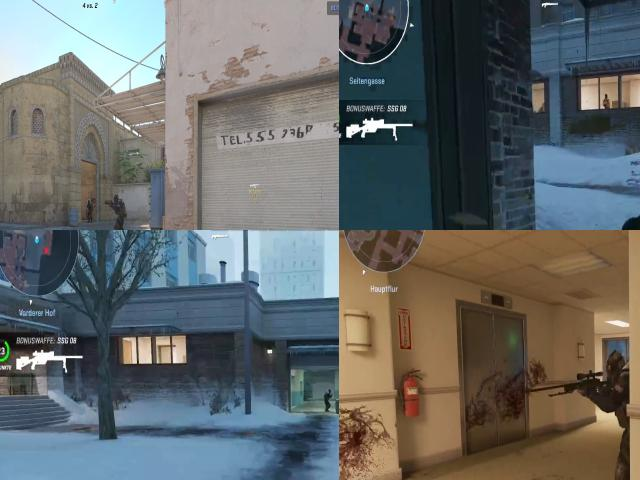CT: (598, 347, 628, 480), (112, 193, 125, 230), (323, 386, 333, 408), (87, 199, 93, 223)
CT-Head: (603, 345, 633, 388), (325, 386, 331, 396), (114, 194, 118, 202), (88, 200, 91, 204)
T: (601, 91, 612, 108)
T-Head: (603, 92, 610, 100)
